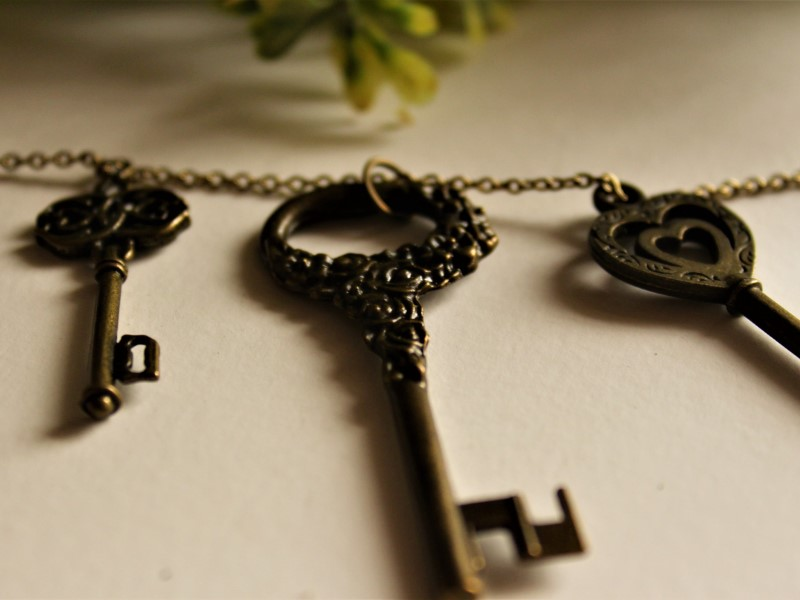key: (250, 165, 590, 597), (33, 175, 195, 434)
